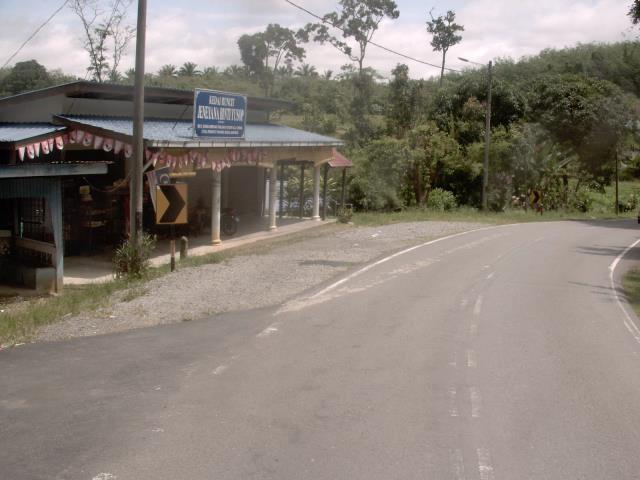traffic_sign: (148, 176, 195, 231)
